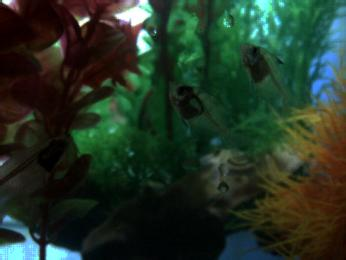X-ray fish: (166, 79, 246, 152), (238, 42, 299, 111)
glassfish: (1, 132, 74, 204)
